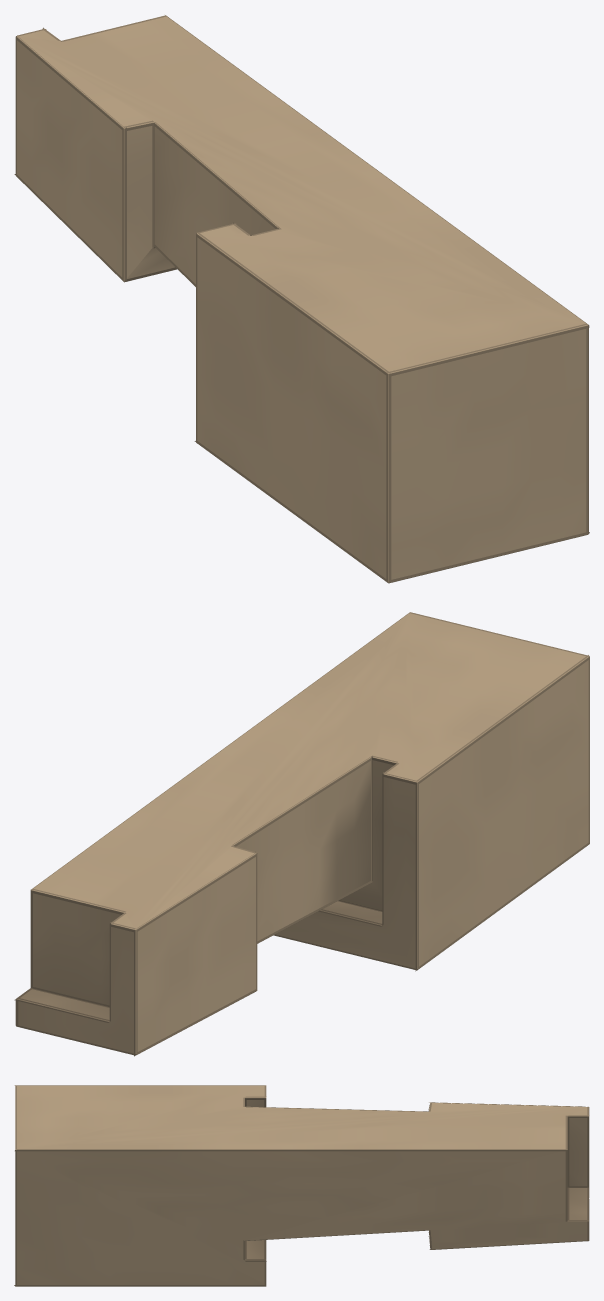
3 renders of one model, top to bottom at view 1: azimuth 30°, elevation 25°; view 2: azimuth 150°, elevation 25°; view 3: azimuth 270°, elevation 25°, orthographic. The views are drawn at different scales.
Parts seen in each view (by area): view 1: part-a; view 2: part-a; view 3: part-a.
Part boxes in pixels (x1,y1,x2,y2): part-a: [14, 15, 589, 583]; part-a: [14, 612, 589, 1056]; part-a: [14, 1085, 589, 1286].
Size of the model in its own units: 0.1228 by 0.1226 by 0.4587.
